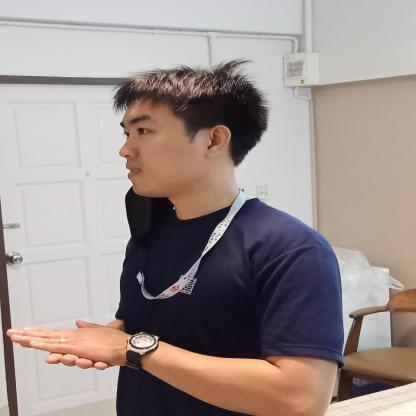Love: (10, 296, 168, 380)
